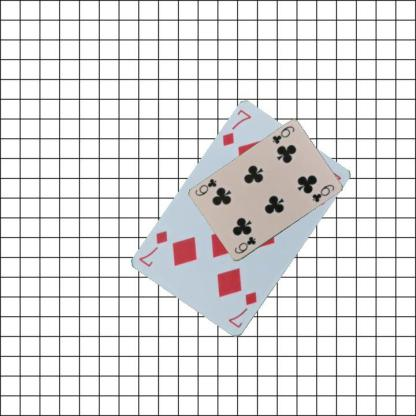6c: (269, 124, 296, 146), (232, 234, 257, 255)
7d: (219, 107, 252, 148), (226, 289, 258, 330)
